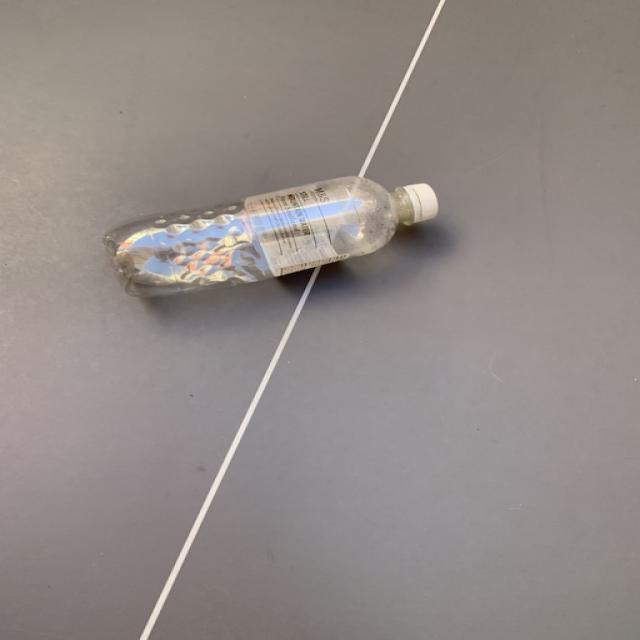Waste: (102, 176, 439, 297)
